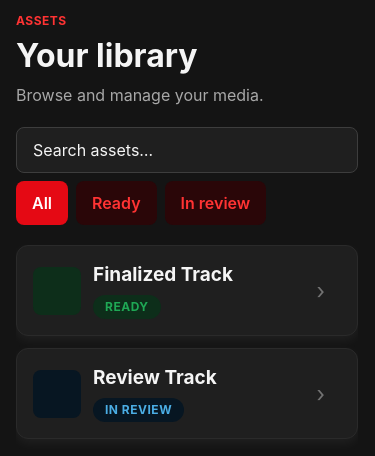
Test: asset screens › T4: Library IA — search, filter, and zero-match states › HP-2: search by title narrows the list
Expected: the button with test id "asset-card-asset-fin" is shown, [16,245,358,336]
Type "Finalized" into the field with test id "asset-search". click: (187, 150)
box: [16,127,358,173]
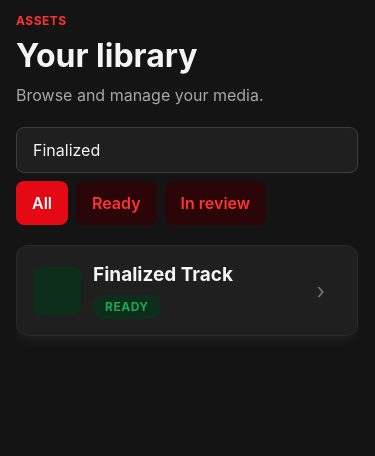
Expected: the button with test id "asset-card-asset-fin" is shown, [16,245,358,336]
Expected: the button with test id "asset-card-asset-rev" is gone
